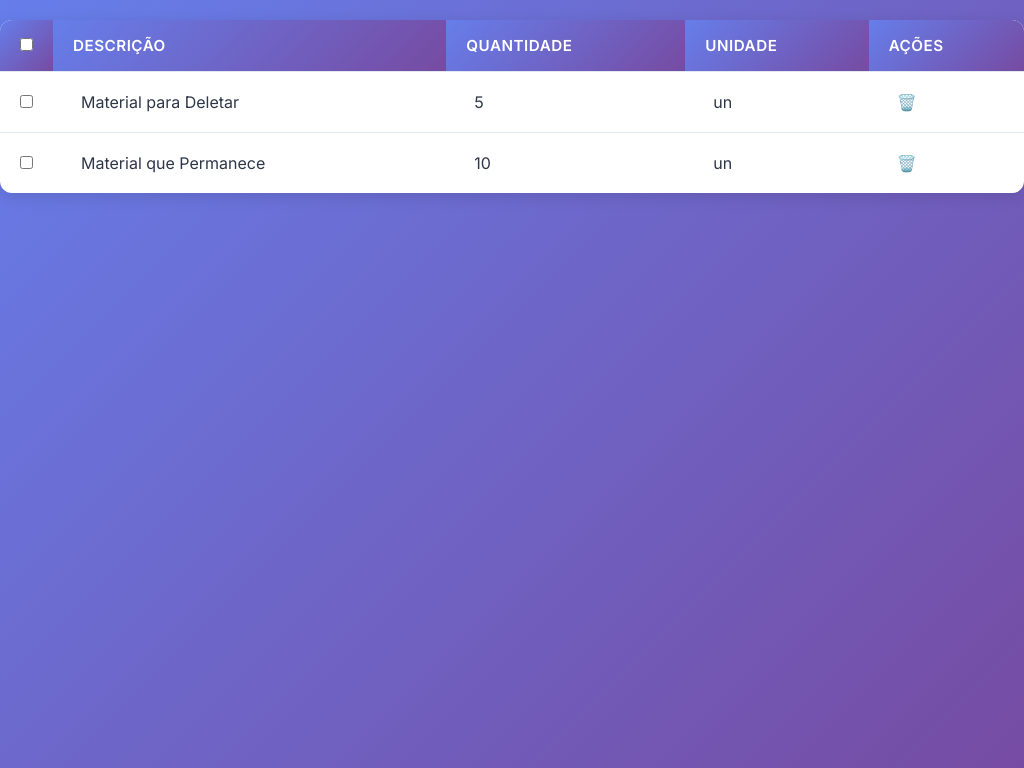
it: MaterialsTable › allows deleting a material with confirmation
Expected: the text "Material para Deletar" is shown, [81,92,239,112]
# Find delete button (trash icon)
Step 1. Click the button titled "Excluir material" in the row of "Material para Deletar" → (907, 102), box [889,88,925,116]
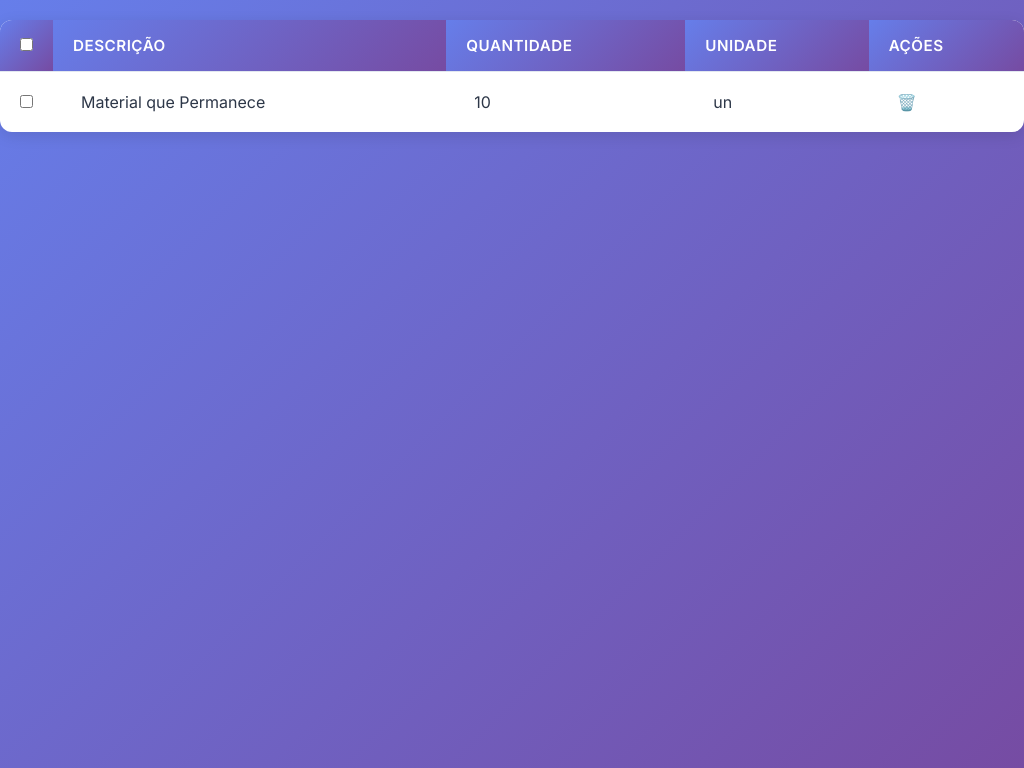
Expected: the text "Material que Permanece" is shown, [81,92,265,112]
Now the text "Material para Deletar" is gone
